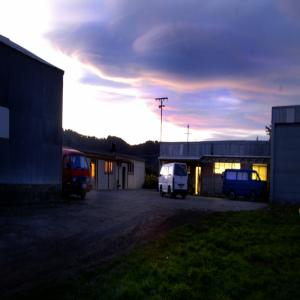Vehicle-registration-plate: (84, 184, 88, 189)
